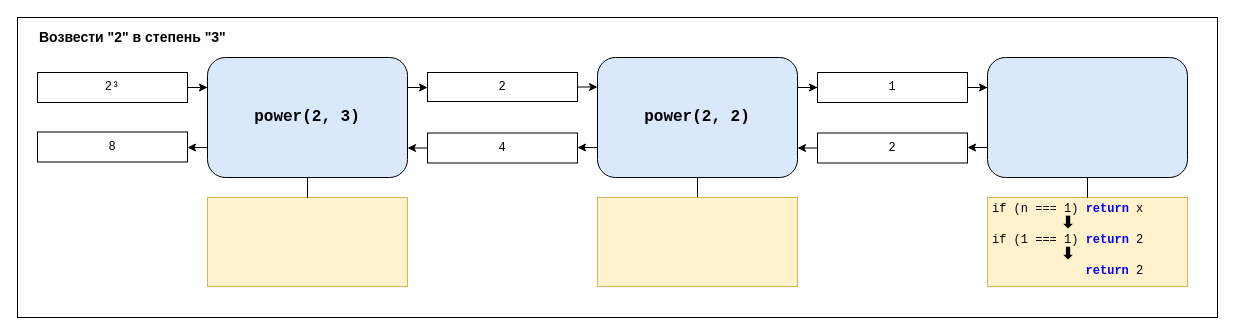
The diagram is 1235 pixels wide and 335 high, and some of its shapes have lost their labels. The shapes that lost their labels are listed below. From the top down, each one's box as (x1, y1, x2, y2) in pixels, then its label:
(986, 56, 1188, 178): power(2, 1)
(206, 196, 408, 286): return x * power (x, n-1) ⬇ return 2 * power (2, 2) ⬇ return 2 * 4
(596, 196, 798, 286): return x * power (x, n-1) ⬇ return 2 * power (2, 1) ⬇ return 2 * 2
